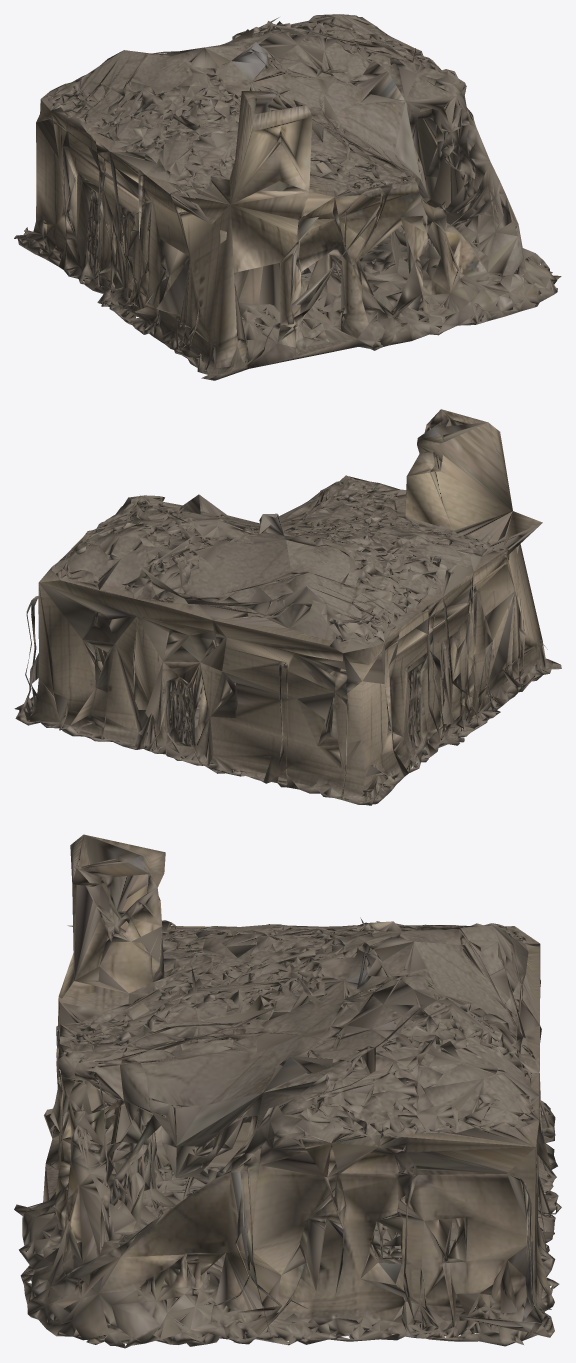
The model's file is hall_wreck.glb.
3 views of the same model, one above another, from view 1: azimuth 30°, elevation 25°; view 2: azimuth 150°, elevation 25°; view 3: azimuth 270°, elevation 25° (orthographic). The views are drawn at different scales.
Parts seen in each view (by area): view 1: wall, metal; view 2: wall, metal; view 3: wall, metal.
Part boxes in pixels (box(x1,y1,x2,y2)): wall: box(14, 14, 561, 380); metal: box(41, 14, 447, 378); wall: box(14, 409, 560, 805); metal: box(39, 480, 561, 783); wall: box(14, 834, 561, 1348); metal: box(45, 923, 555, 1345).
Size of the model in its own units: 9.47 by 5.84 by 9.15.
Materials: 1 (1 with a texture image).
